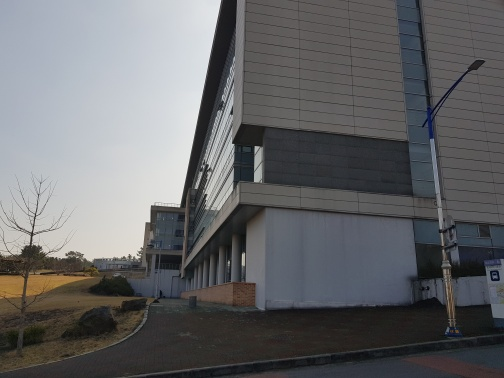Engineering College Building 4: (225, 1, 501, 301), (167, 29, 410, 306), (146, 204, 253, 306)
